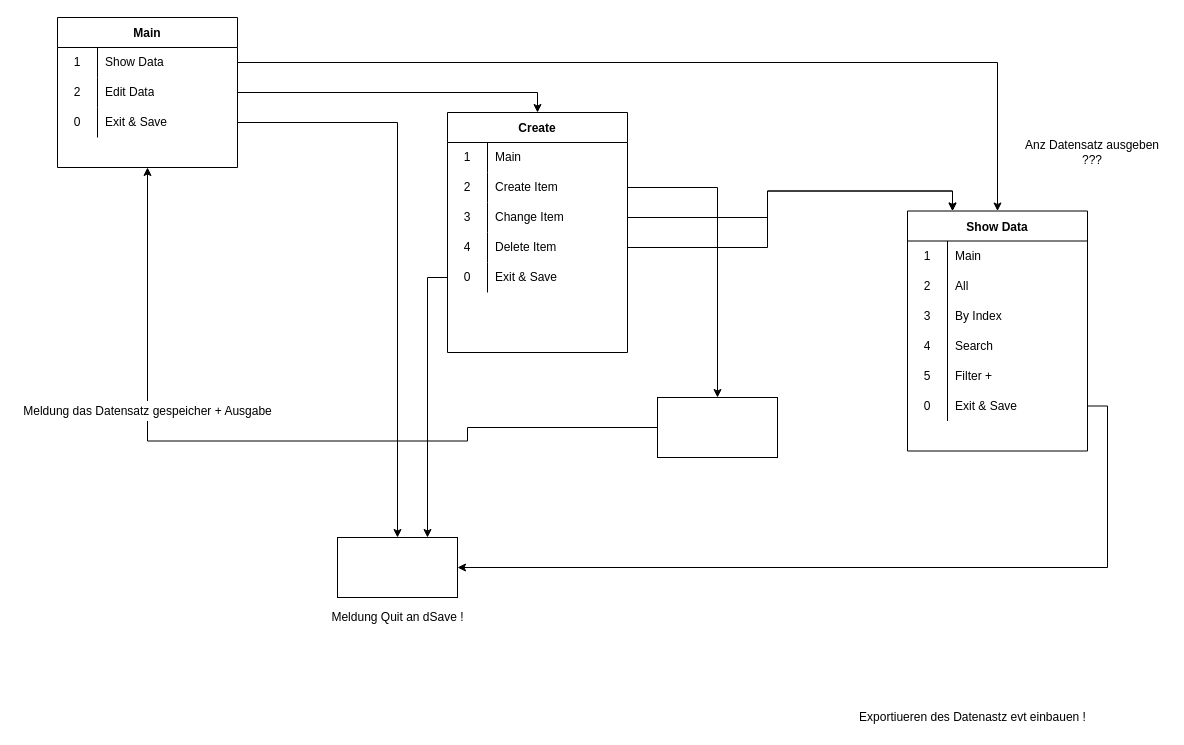
This 1184x745 diagram has some shape labels left out. The shapes that lost their labels are listed below. From the top down, each one's centre as x and y in pixels, then its label:
(717,427): Add Item Ask every Col
(397,567): Quit and Save
